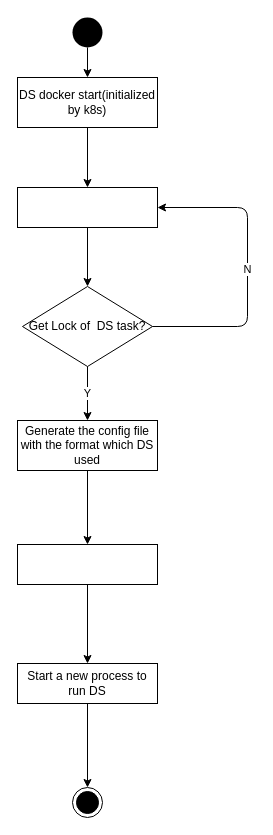
The diagram is 273 pixels wide and 835 high, and some of its shapes have lost their labels. Here are the shapes that lost their labels. From the top down, the box of each, then its label:
(16, 186, 158, 228): Get unassigned config information from zookeeper
(16, 544, 158, 584): Add watch under /task
